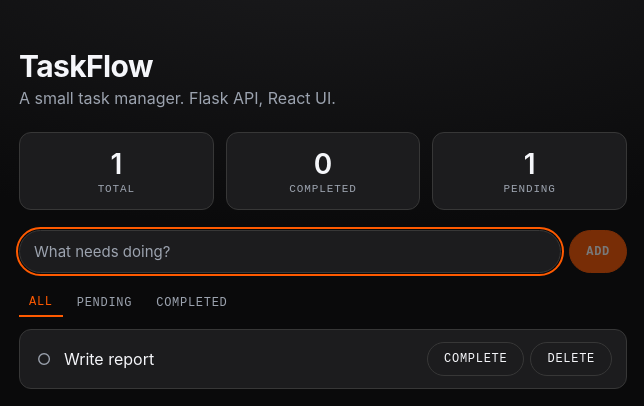
Scenario: App › completes a task and hides its Complete button afterwards
Expected: the text "Write report" is shown, [64,349,154,369]
Click the button "Complete" at (476, 359), box [427,342,524,376]
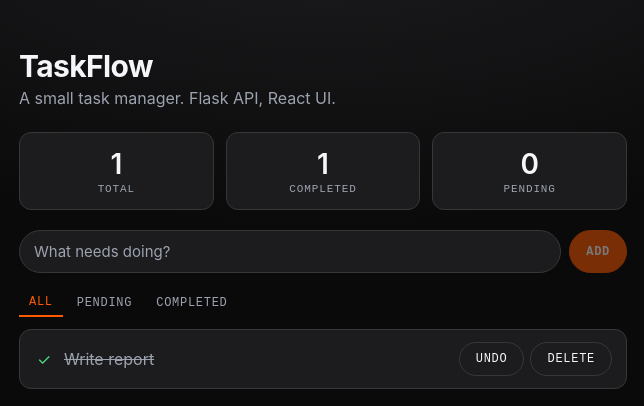
Expected: the text named "Completed" is shown, [37,349,51,369]
